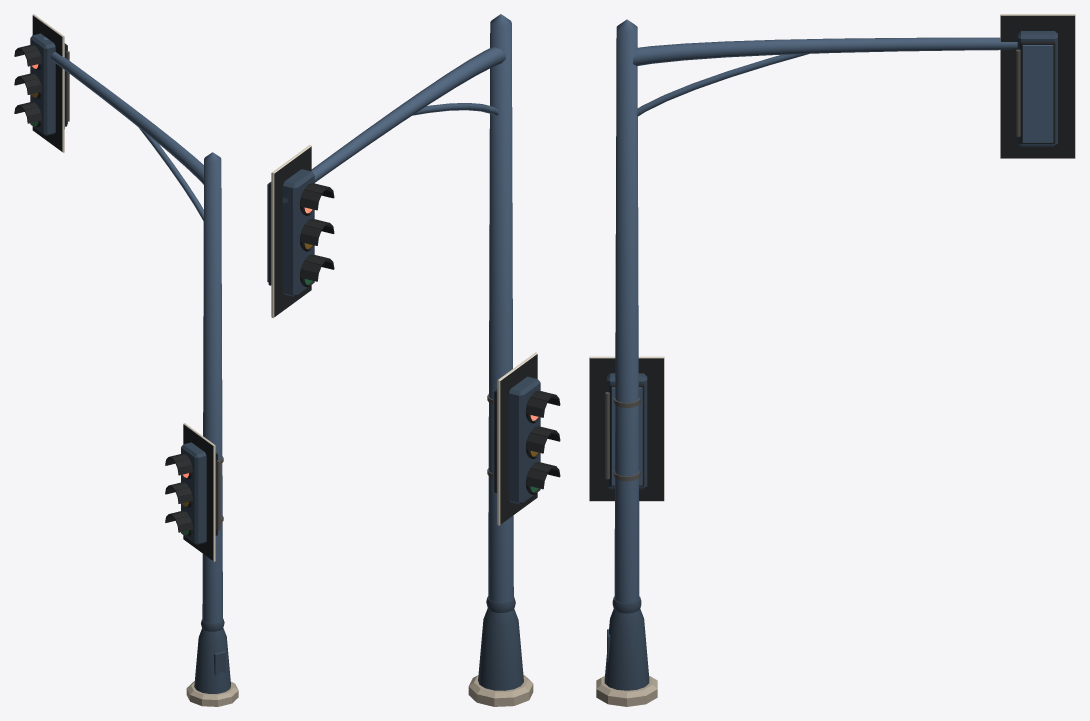
Rendered from signal.glb.
3 renders of one model, left to right at view 1: azimuth 30°, elevation 25°; view 2: azimuth 150°, elevation 25°; view 3: azimuth 270°, elevation 25°, orthographic. The views are drawn at different scales.
Parts seen in each view (by area): view 1: signal.native.L0.signal.shaft.1, signal.native.L0.signal.near-head.6, signal.native.L0.signal.head.5, signal.native.L0.signal.mast.3, signal.native.L0.signal.base.0, signal.native.L0.signal.hatch.2; view 2: signal.native.L0.signal.shaft.1, signal.native.L0.signal.near-head.6, signal.native.L0.signal.head.5, signal.native.L0.signal.base.0, signal.native.L0.signal.mast.3; view 3: signal.native.L0.signal.shaft.1, signal.native.L0.signal.head.5, signal.native.L0.signal.near-head.6, signal.native.L0.signal.mast.3, signal.native.L0.signal.base.0.
Part boxes in pixels (box(x1,y1,x2,y2)): signal.native.L0.signal.shaft.1: box(202, 152, 222, 623); signal.native.L0.signal.near-head.6: box(165, 423, 220, 561); signal.native.L0.signal.head.5: box(14, 14, 69, 152); signal.native.L0.signal.mast.3: box(51, 52, 203, 220); signal.native.L0.signal.base.0: box(186, 628, 238, 706); signal.native.L0.signal.hatch.2: box(201, 618, 225, 675); signal.native.L0.signal.shaft.1: box(488, 14, 513, 602); signal.native.L0.signal.near-head.6: box(493, 352, 560, 525); signal.native.L0.signal.head.5: box(267, 145, 334, 317); signal.native.L0.signal.base.0: box(468, 608, 533, 706); signal.native.L0.signal.mast.3: box(282, 47, 505, 203); signal.native.L0.signal.shaft.1: box(614, 19, 639, 603); signal.native.L0.signal.head.5: box(1000, 14, 1075, 158); signal.native.L0.signal.near-head.6: box(589, 356, 664, 501); signal.native.L0.signal.mast.3: box(633, 37, 1058, 116); signal.native.L0.signal.base.0: box(596, 609, 657, 706).
Bounding box in the file's own units: 0.671 × 5.57 × 3.61.
